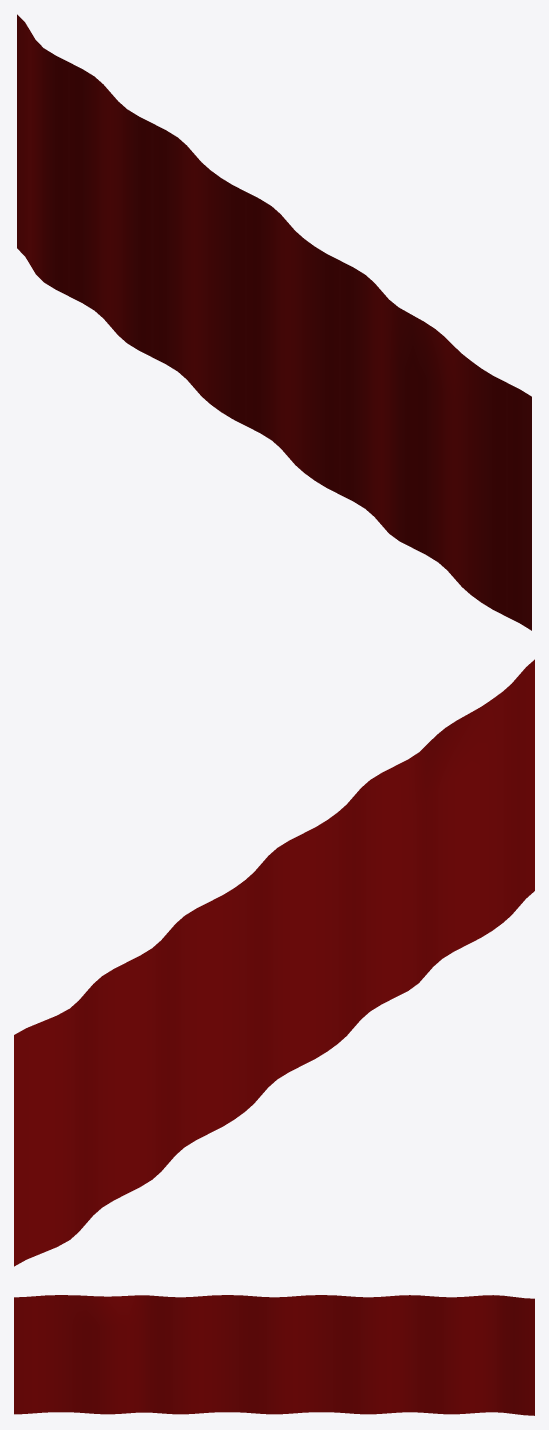
File: Vorhang_Bordure.DAE
The picture shows the model from 3 angles, top to bottom: view 1: azimuth 30°, elevation 25°; view 2: azimuth 150°, elevation 25°; view 3: azimuth 270°, elevation 25°; orthographic projection. The views are drawn at different scales.
Visible parts, largest first — view 1: Vorhangbordure; view 2: Vorhangbordure; view 3: Vorhangbordure.
Part boxes in pixels (box(x1,y1,x2,y2)): Vorhangbordure: box(17, 14, 531, 630); Vorhangbordure: box(14, 659, 534, 1266); Vorhangbordure: box(14, 1295, 534, 1415).
Bounding box in the file's own units: 16.44 × 248 × 1000.
